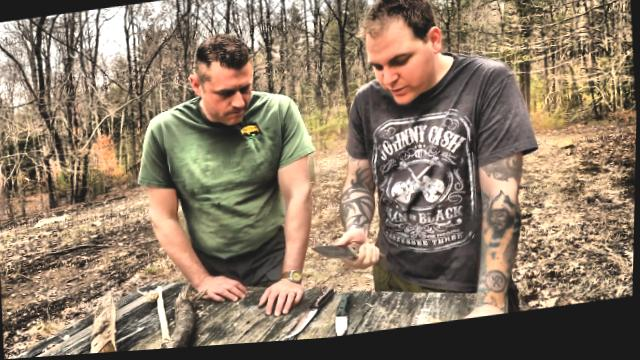knife: (301, 229, 386, 283)
